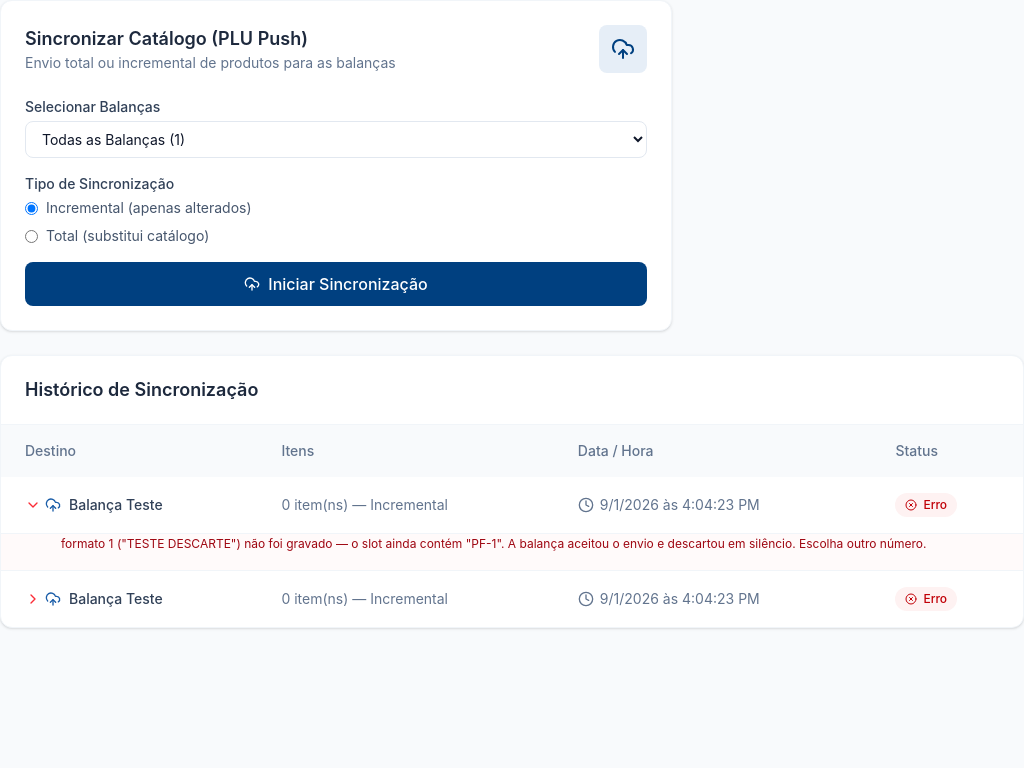
Test case: Tela de Sincronização — expandir e recolher (card #57) › abre o motivo de um erro antigo ao clicar na linha
Click the 3rd button: (116, 598) 1,570 -> 1023,626
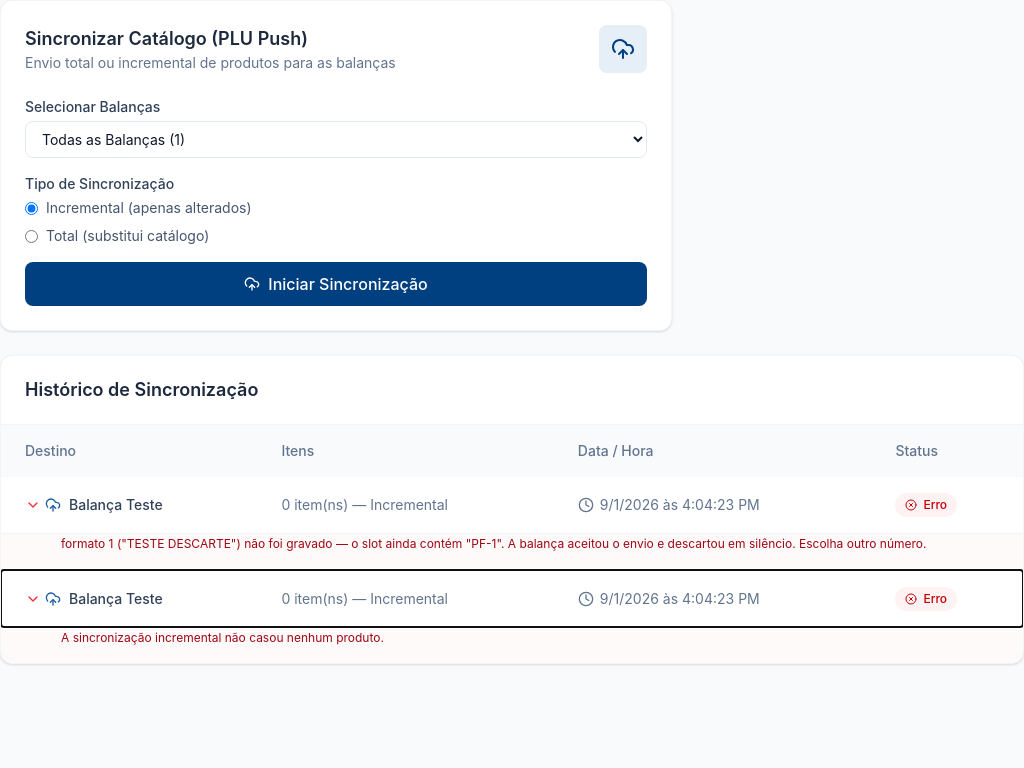
expect the text "A sincronização incremental não casou nenhum produto." is shown: met, box 61,630 -> 384,644
